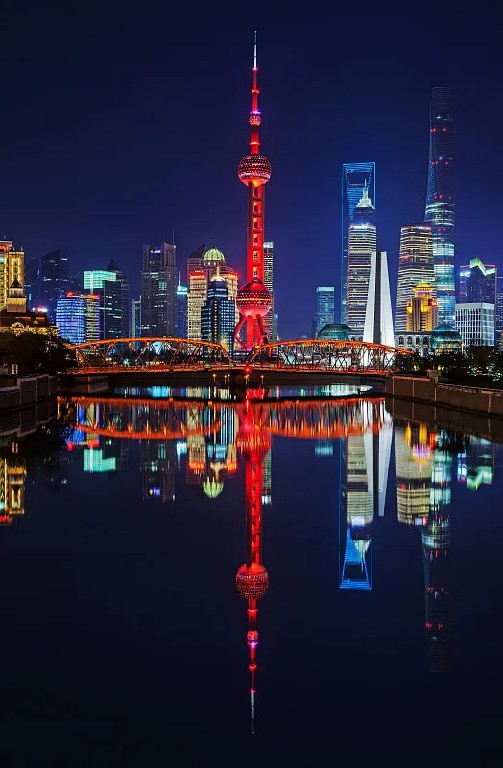Oriental: (233, 31, 273, 352)
